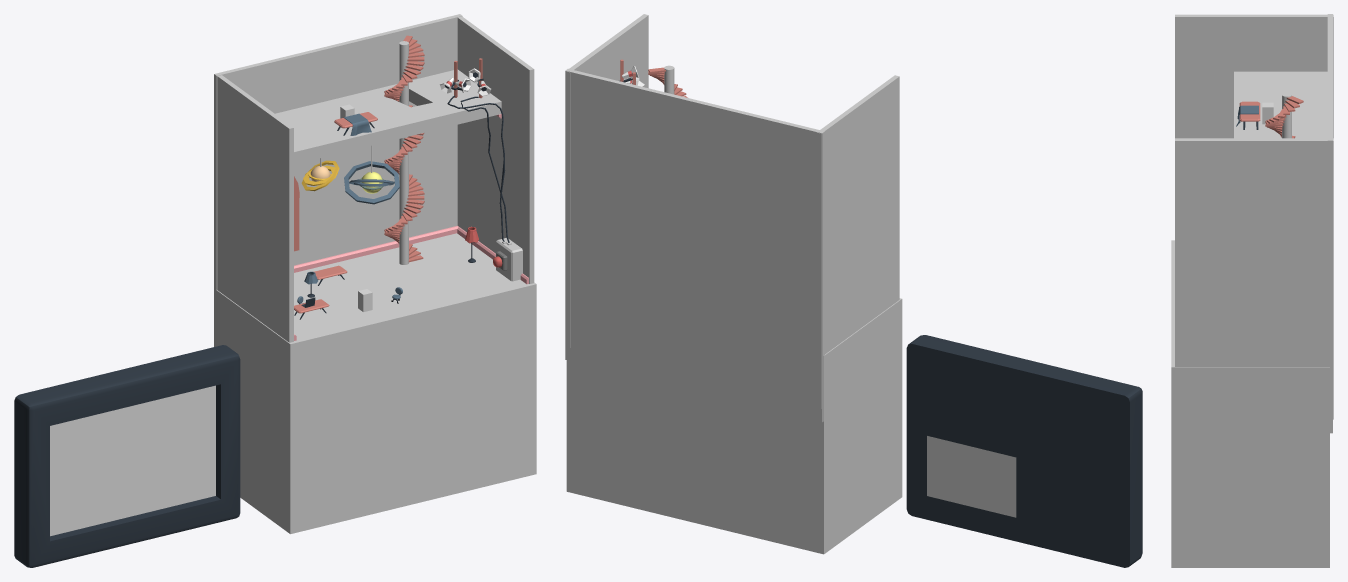
File: asset3d.fbx
3 renders of one model, left to right at view 1: azimuth 30°, elevation 25°; view 2: azimuth 150°, elevation 25°; view 3: azimuth 270°, elevation 25°, orthographic. The views are drawn at different scales.
Parts seen in each view (by area): view 1: FLOOR, MURS, polySurface18, polySurface19, FLOOR2, colonne, pCube93, BOITIER, pSphere8; view 2: MURS, FLOOR, polySurface18, polySurface20; view 3: MURS, FLOOR, FLOOR2, colonne, planche, pCube88, ECHELLE1.
Boxes of the visible parts, <box> form: FLOOR: <box>215,233,536,534</box>; MURS: <box>214,14,534,346</box>; polySurface18: <box>14,345,240,567</box>; polySurface19: <box>50,385,215,536</box>; FLOOR2: <box>275,69,501,164</box>; colonne: <box>399,41,408,264</box>; pCube93: <box>294,225,458,272</box>; BOITIER: <box>496,238,522,281</box>; pSphere8: <box>344,161,399,204</box>; MURS: <box>565,14,899,422</box>; FLOOR: <box>566,298,902,554</box>; polySurface18: <box>906,335,1142,567</box>; polySurface20: <box>927,436,1016,517</box>; MURS: <box>1175,14,1333,433</box>; FLOOR: <box>1171,240,1329,567</box>; FLOOR2: <box>1234,71,1327,138</box>; colonne: <box>1282,92,1291,138</box>; planche: <box>1239,101,1260,121</box>; pCube88: <box>1236,105,1258,126</box>; ECHELLE1: <box>1262,102,1273,124</box>.
Bounding box in the file's own units: 89.45 × 71.02 × 24.07.
